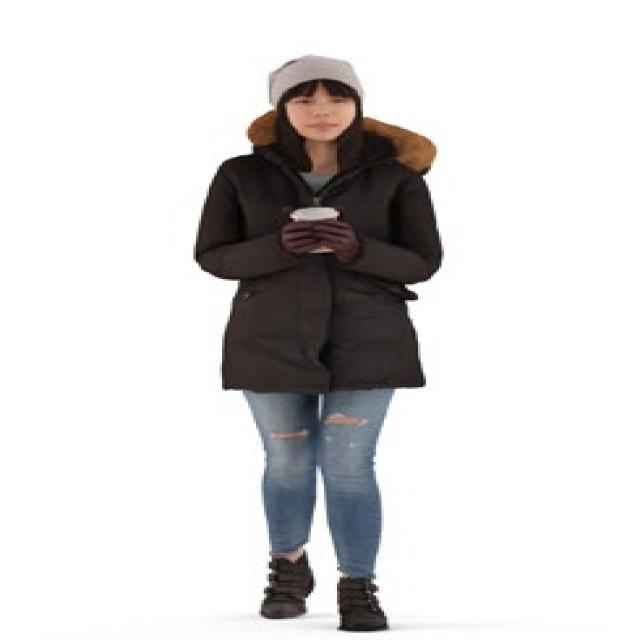standing: (190, 50, 458, 636)
